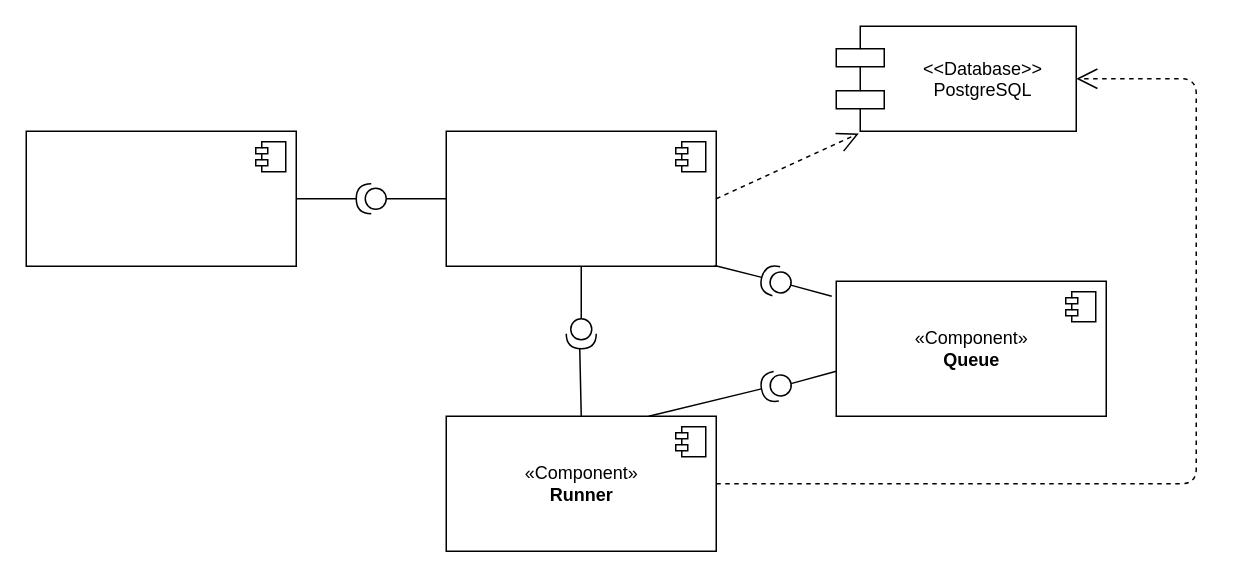
Some shapes in this 1244 by 578 pixel diagram are drawn without their labels. Each missing label, with the centre of its shape:
«Component» Controller: point 160,198
«Component» Model: point 580,198
